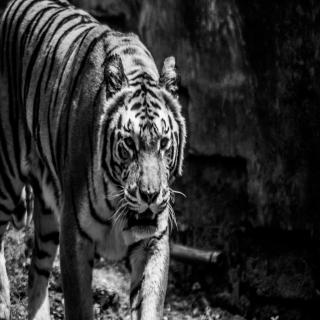Tiger: (0, 0, 186, 319)
